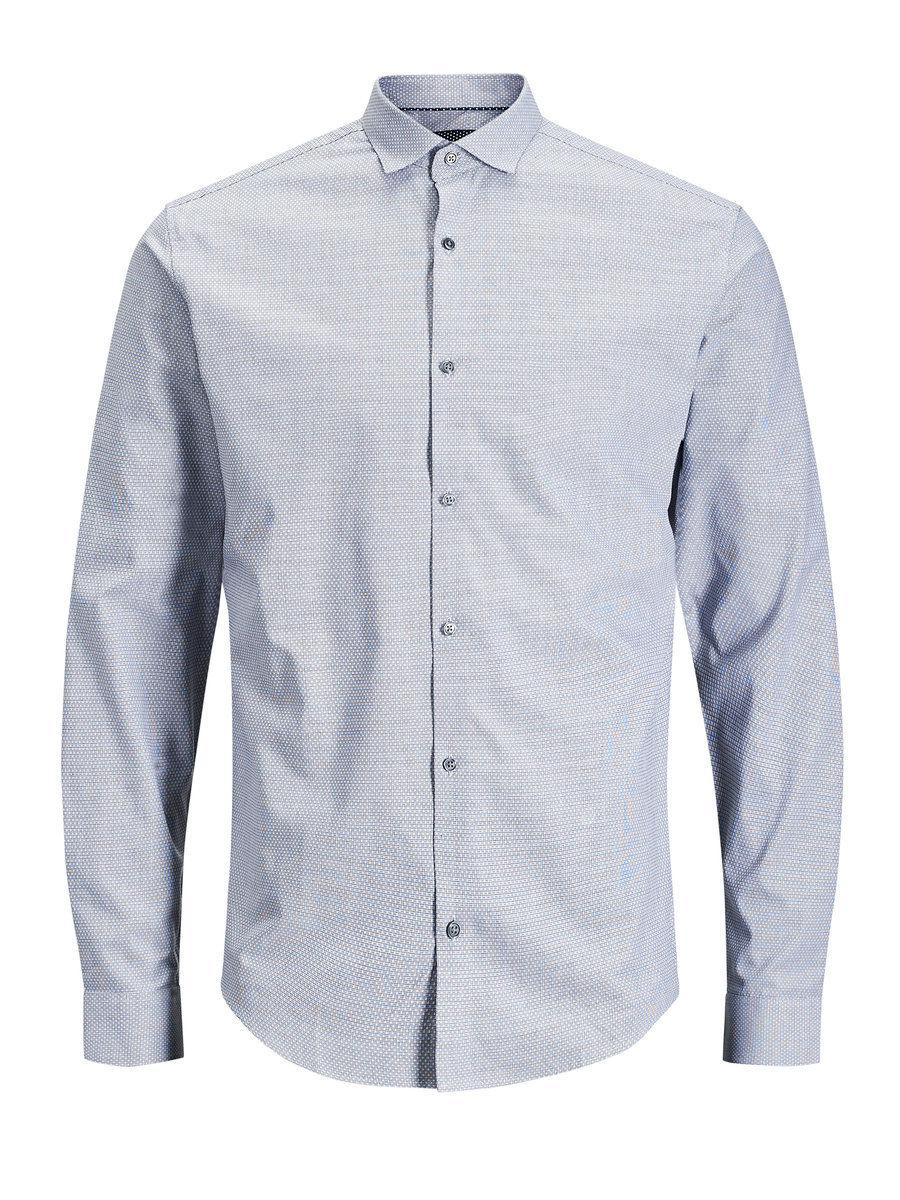teeshirt: (65, 69, 842, 1091)
